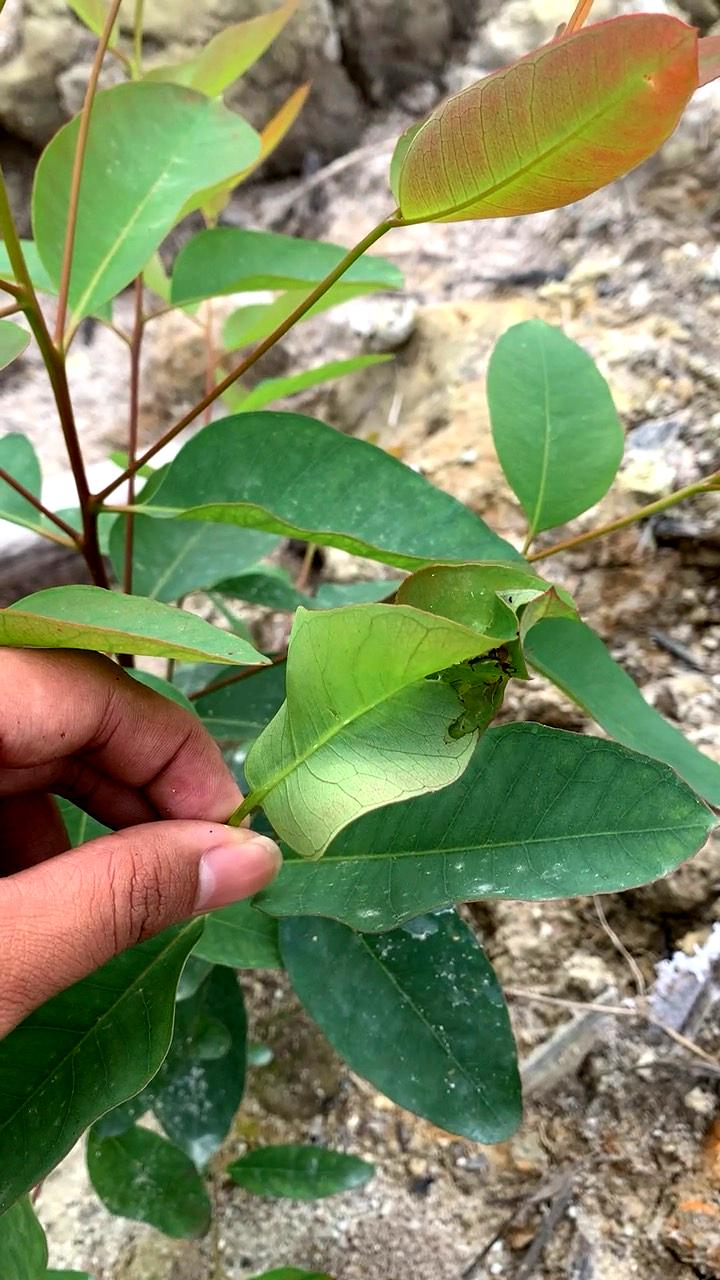Leaf Roller - Leaf: (189, 545, 578, 932)
